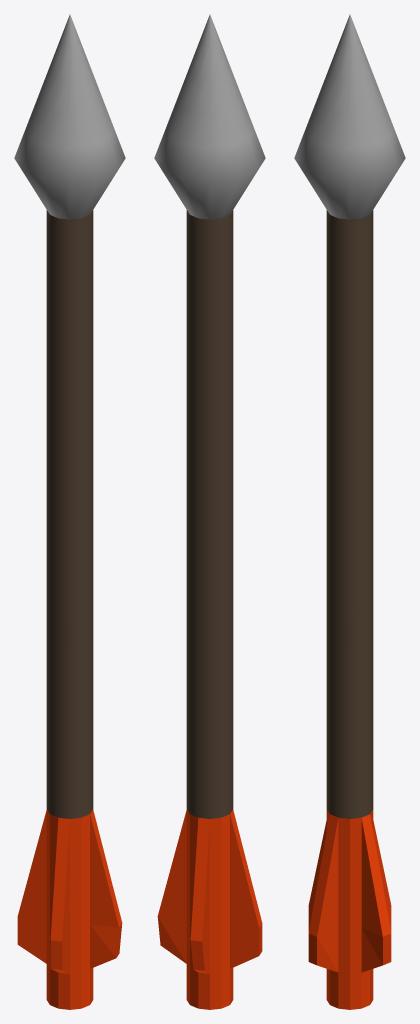
File: CrossbowBolt.FBX
The picture shows the model from 3 angles, left to right: view 1: azimuth 30°, elevation 25°; view 2: azimuth 210°, elevation 25°; view 3: azimuth 270°, elevation 25°; orthographic projection.
Parts seen in each view (by area): view 1: Cone001; view 2: Cone001; view 3: Cone001.
Part boxes in pixels (x1,y1,x2,y2): Cone001: (14, 14, 125, 1009); Cone001: (154, 14, 265, 1009); Cone001: (294, 14, 405, 1009).
Bounding box in the file's own units: 0.2636 × 2.57 × 0.2636.
